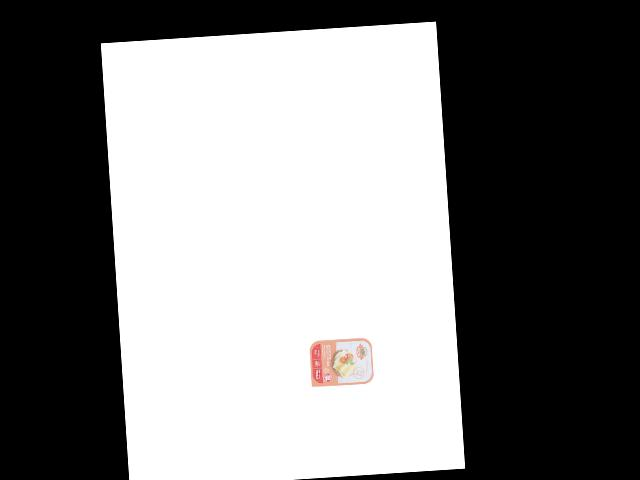cheese: (304, 334, 375, 388)
